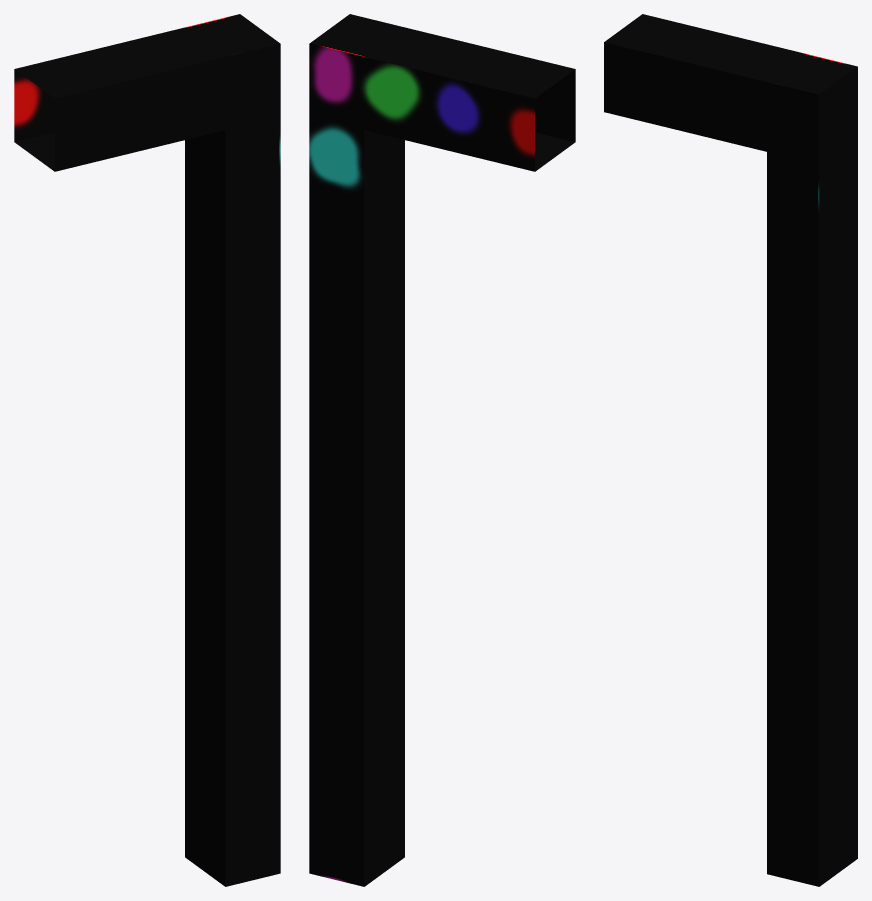
File: boarder.dae
3 renders of one model, left to right at view 1: azimuth 30°, elevation 25°; view 2: azimuth 150°, elevation 25°; view 3: azimuth 330°, elevation 25°, orthographic. The views are drawn at different scales.
Visible parts, largest first — view 1: Cube; view 2: Cube; view 3: Cube.
Part boxes in pixels (left/top/right/bottom): Cube: left=14, top=14, right=280, bottom=886; Cube: left=309, top=14, right=575, bottom=886; Cube: left=604, top=14, right=857, bottom=886.
Bounding box in the file's own units: 6.45 × 2 × 22.66.
Materials: 1 (1 with a texture image).
